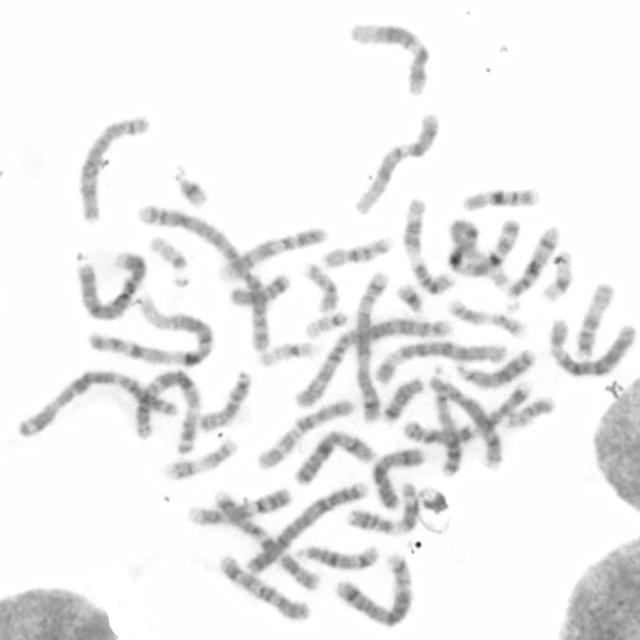A1: (86, 291, 216, 367), (443, 214, 524, 293)
A2: (135, 198, 274, 356), (288, 313, 453, 409)
A3: (11, 366, 182, 440), (131, 365, 203, 459)
B4: (240, 477, 370, 578), (73, 247, 150, 322)
B5: (331, 550, 416, 630), (352, 268, 389, 421)
C10: (253, 396, 355, 471), (214, 550, 312, 624)
C11: (398, 192, 455, 296), (344, 479, 422, 535)
C12: (348, 107, 442, 218), (345, 17, 432, 98)
C6: (373, 339, 513, 386), (544, 314, 638, 379)
C7: (207, 485, 322, 593), (398, 379, 534, 447)
C8: (75, 112, 153, 224), (426, 371, 504, 470)
C9: (212, 222, 330, 283), (182, 484, 294, 528)
D13: (429, 375, 465, 480), (455, 345, 536, 389)
D14: (501, 220, 562, 302), (291, 542, 381, 570)
D15: (194, 367, 253, 432), (572, 278, 616, 360)
E16: (319, 231, 395, 270), (459, 183, 541, 213)
E17: (160, 433, 240, 482), (443, 295, 527, 338)
E18: (225, 269, 292, 308), (378, 372, 424, 424)
F19: (538, 244, 576, 304), (256, 336, 318, 369)
F20: (300, 260, 341, 314), (500, 393, 558, 431)
G21: (168, 162, 212, 209), (393, 280, 426, 314)
G22: (145, 230, 192, 288), (302, 308, 349, 340)
X: (290, 427, 376, 487), (368, 443, 428, 511)
